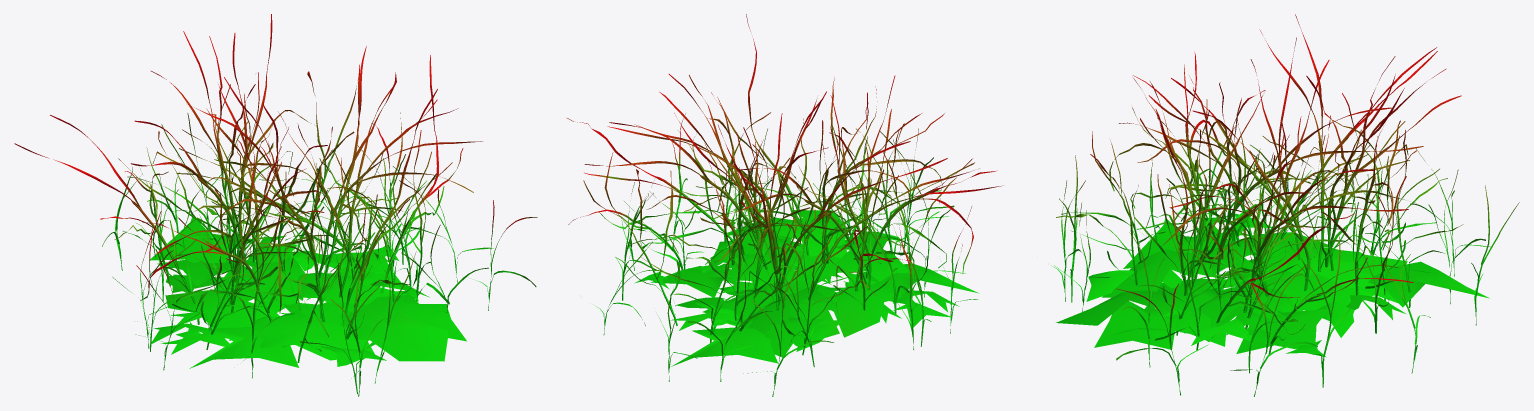
Rendered from Kikuyu Grass_LOD0_Var3_wiljearqx.fbx.
The picture shows the model from 3 angles, left to right: view 1: azimuth 30°, elevation 25°; view 2: azimuth 150°, elevation 25°; view 3: azimuth 270°, elevation 25°; orthographic projection. The views are drawn at different scales.
Visible parts, largest first — view 1: _gs5a_Var3_LOD0; view 2: _gs5a_Var3_LOD0; view 3: _gs5a_Var3_LOD0.
Part boxes in pixels (<box>): _gs5a_Var3_LOD0: <box>14,14,537,396</box>; _gs5a_Var3_LOD0: <box>567,14,1002,396</box>; _gs5a_Var3_LOD0: <box>1052,14,1519,396</box>.
Size of the model in its own units: 75.28 by 46.23 by 79.6.
